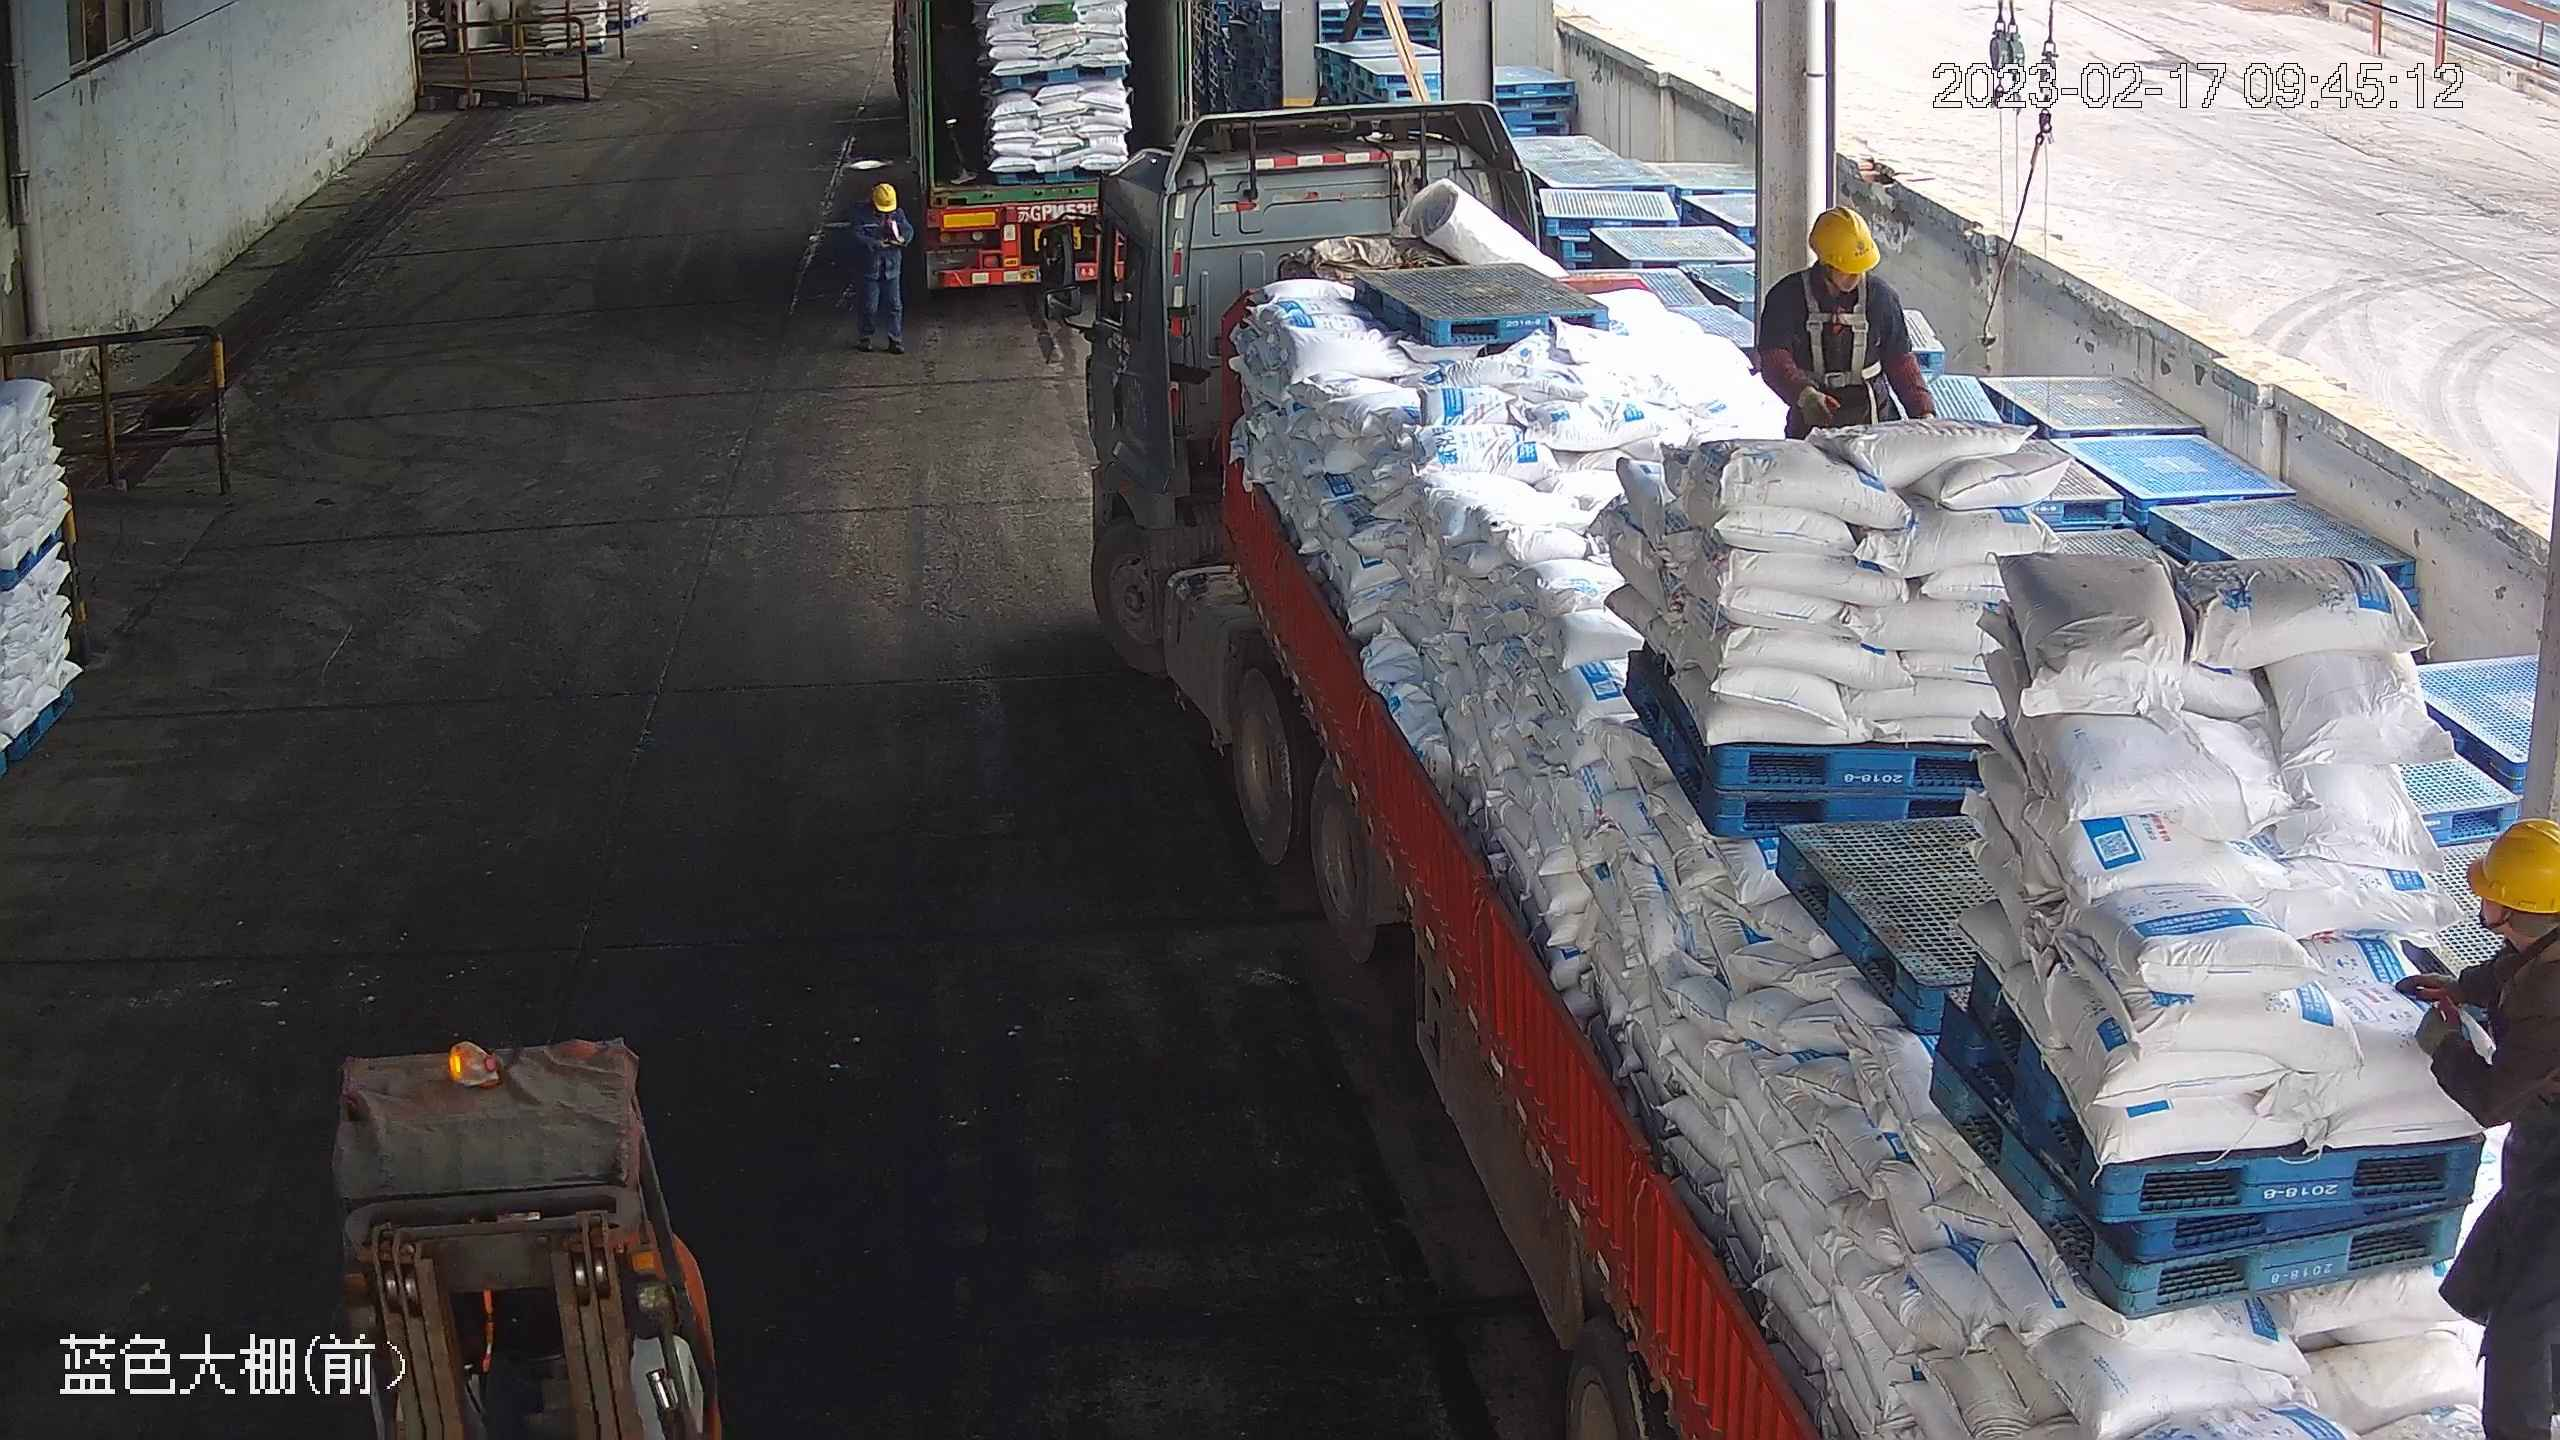belt: (1808, 284, 1879, 390)
head: (2431, 813, 2560, 1028), (1767, 201, 1902, 327), (853, 178, 910, 241)
helmet: (1768, 201, 1900, 325), (2457, 814, 2560, 911), (1806, 202, 1882, 276), (870, 180, 901, 209)
people: (852, 176, 914, 356)
truck: (1046, 137, 2557, 1440)
